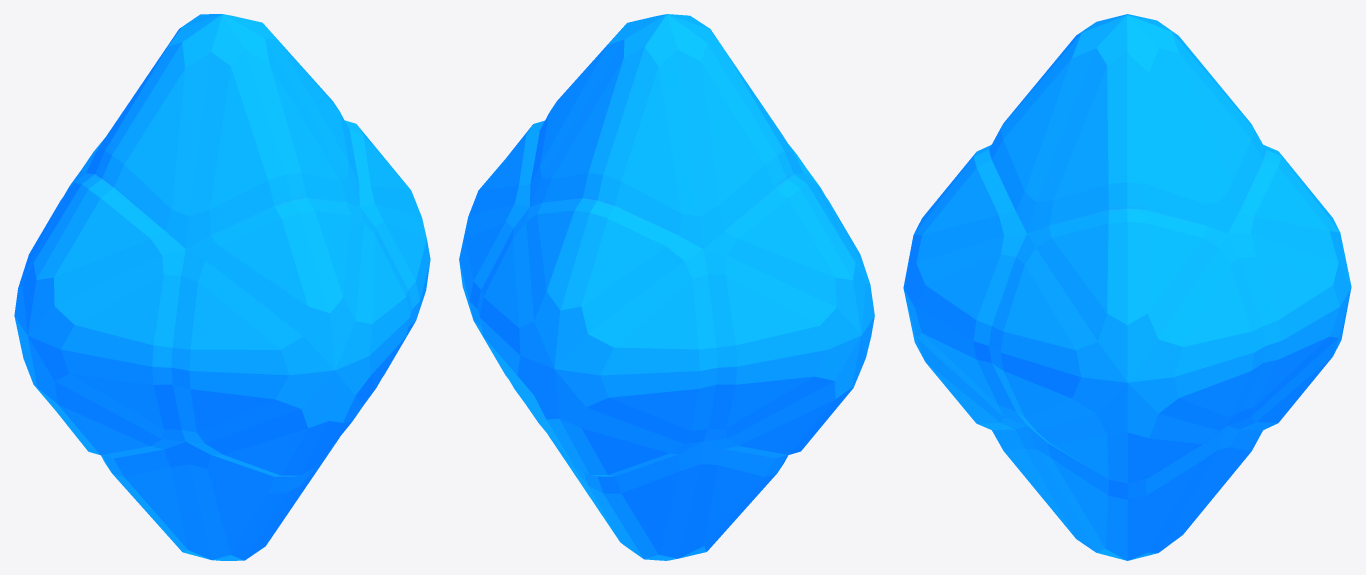
The model's file is crystal.glb.
The picture shows the model from 3 angles, left to right: view 1: azimuth 30°, elevation 25°; view 2: azimuth 150°, elevation 25°; view 3: azimuth 270°, elevation 25°; orthographic projection.
Visible parts, largest first — view 1: pCube22; view 2: pCube22; view 3: pCube22.
Boxes of the visible parts, box(x1,y1,x2,y2) form: pCube22: box(14, 14, 430, 560); pCube22: box(459, 14, 874, 560); pCube22: box(903, 14, 1351, 560).
Size of the model in its own units: 57.11 by 76.63 by 57.1.
Materials: 1 (1 with a texture image).
